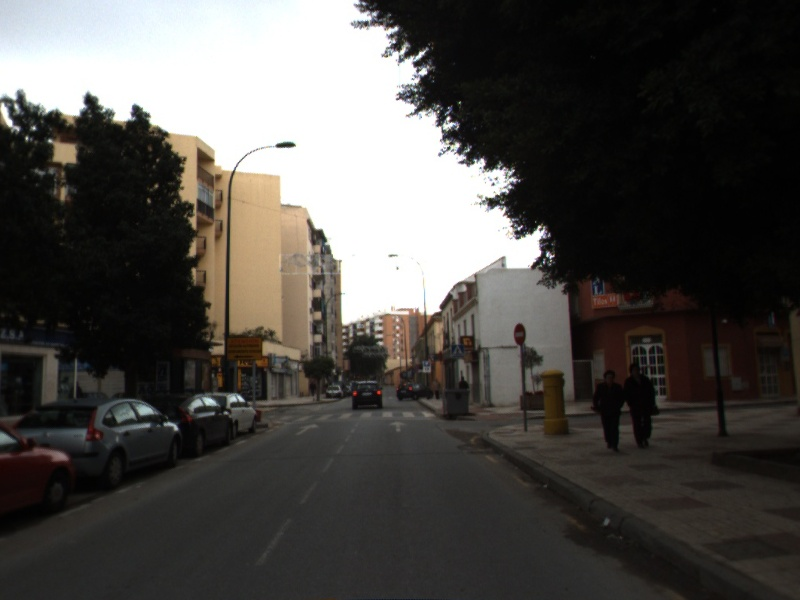STRAIGHT: (293, 422, 321, 437), (387, 419, 409, 434)
